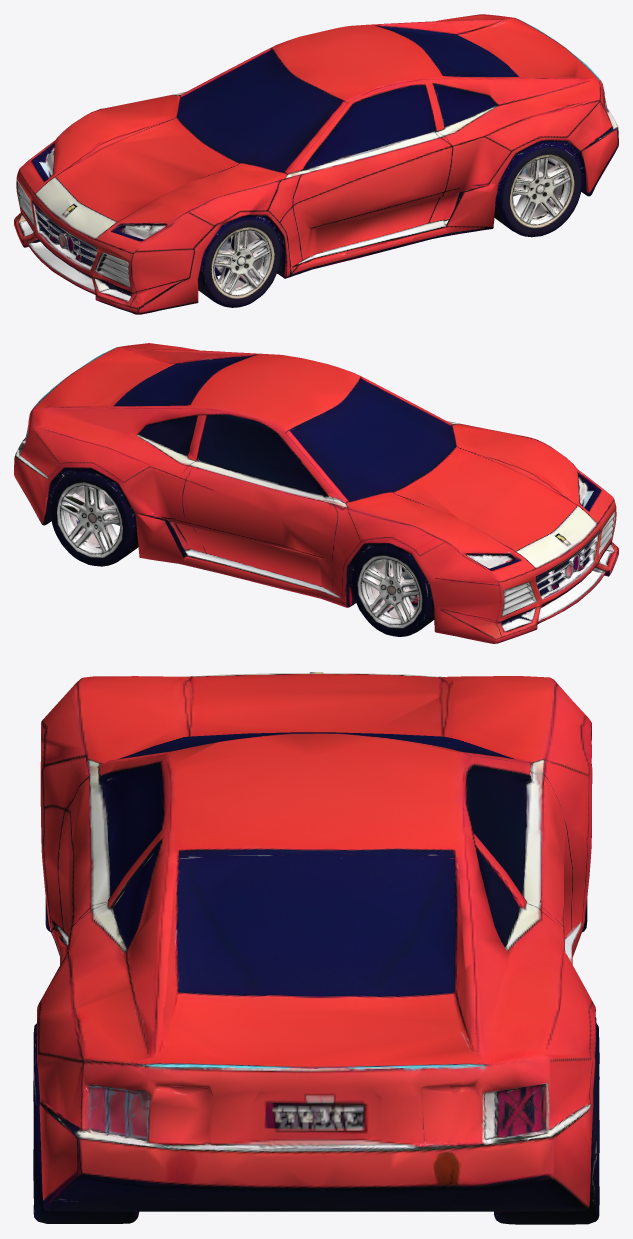
Rendered from car_hero.glb.
The picture shows the model from 3 angles, top to bottom: view 1: azimuth 30°, elevation 25°; view 2: azimuth 150°, elevation 25°; view 3: azimuth 270°, elevation 25°; orthographic projection. The views are drawn at different scales.
Parts seen in each view (by area): view 1: Mesh_0; view 2: Mesh_0; view 3: Mesh_0.
Part boxes in pixels (<box>): Mesh_0: <box>14,14,618,314</box>; Mesh_0: <box>14,343,618,643</box>; Mesh_0: <box>33,672,599,1224</box>.
Bounding box in the file's own units: 1.9 × 0.5559 × 0.8919.
1 material, 1 textured.
